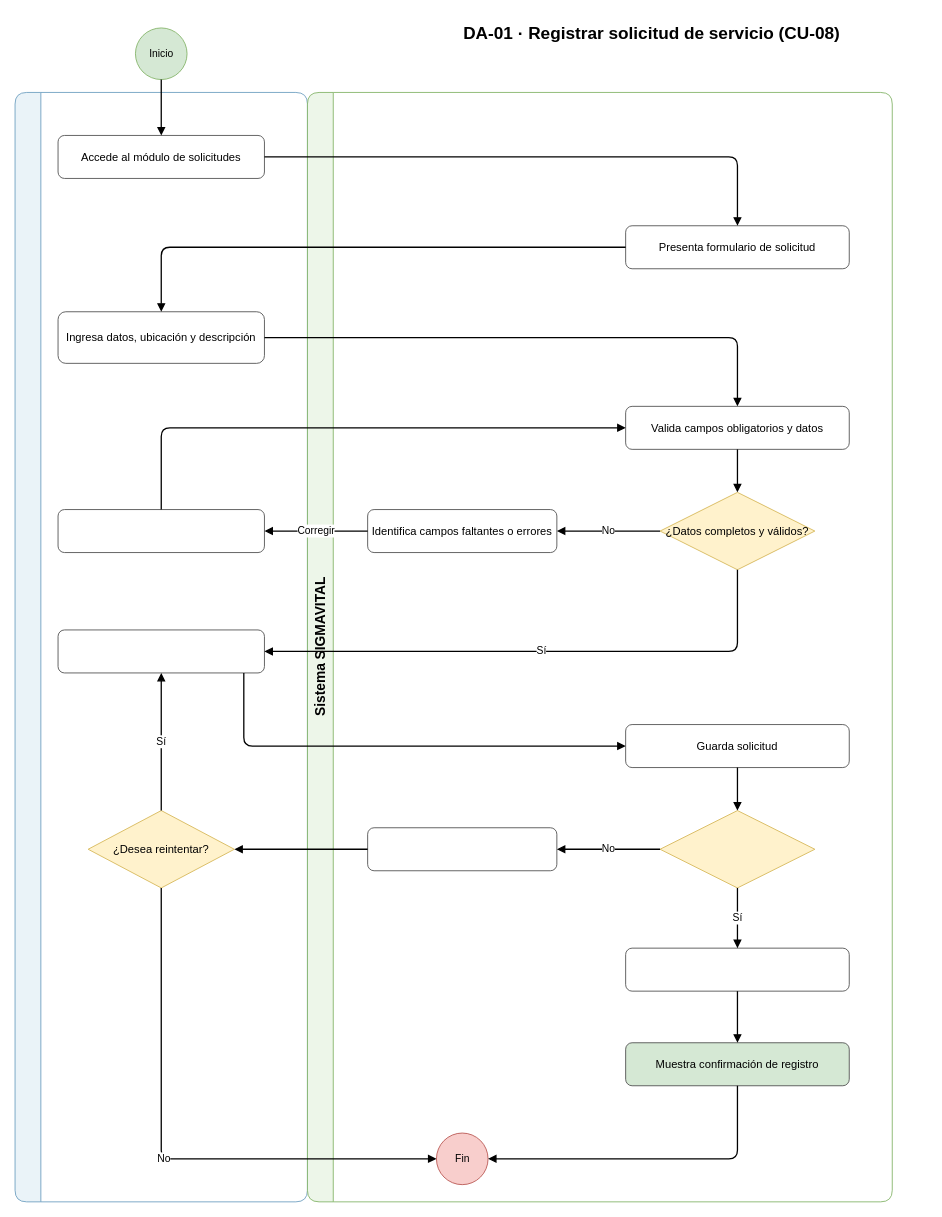
Image size: 942x1217. Some labels were removed from this diagram. Each missing label, with the box of its shape:
Confirma registro de la solicitud: (57, 629, 264, 673)
Coordinador operativo: (14, 92, 307, 1202)
Corrige información: (57, 509, 264, 553)
Genera identificador de solicitud: (625, 947, 849, 991)
Informa error de almacenamiento: (367, 827, 557, 871)
¿Guardado exitoso?: (659, 810, 815, 888)
